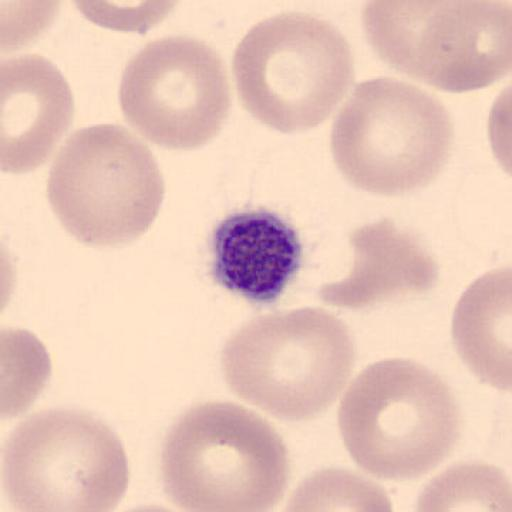Platelet: (204, 205, 308, 306)
RBC: (218, 304, 357, 422), (336, 354, 460, 484), (329, 73, 455, 199), (230, 11, 356, 136), (45, 121, 167, 250), (159, 398, 292, 512), (0, 404, 132, 511), (360, 0, 510, 93), (296, 215, 441, 310), (116, 34, 232, 152), (409, 0, 512, 94), (336, 218, 440, 310), (2, 53, 76, 177), (449, 264, 512, 393), (274, 465, 394, 512), (412, 458, 512, 512), (2, 324, 52, 420), (66, 0, 184, 37), (1, 0, 64, 54), (486, 80, 512, 181), (101, 498, 208, 512), (1, 237, 19, 320), (97, 502, 209, 512)
